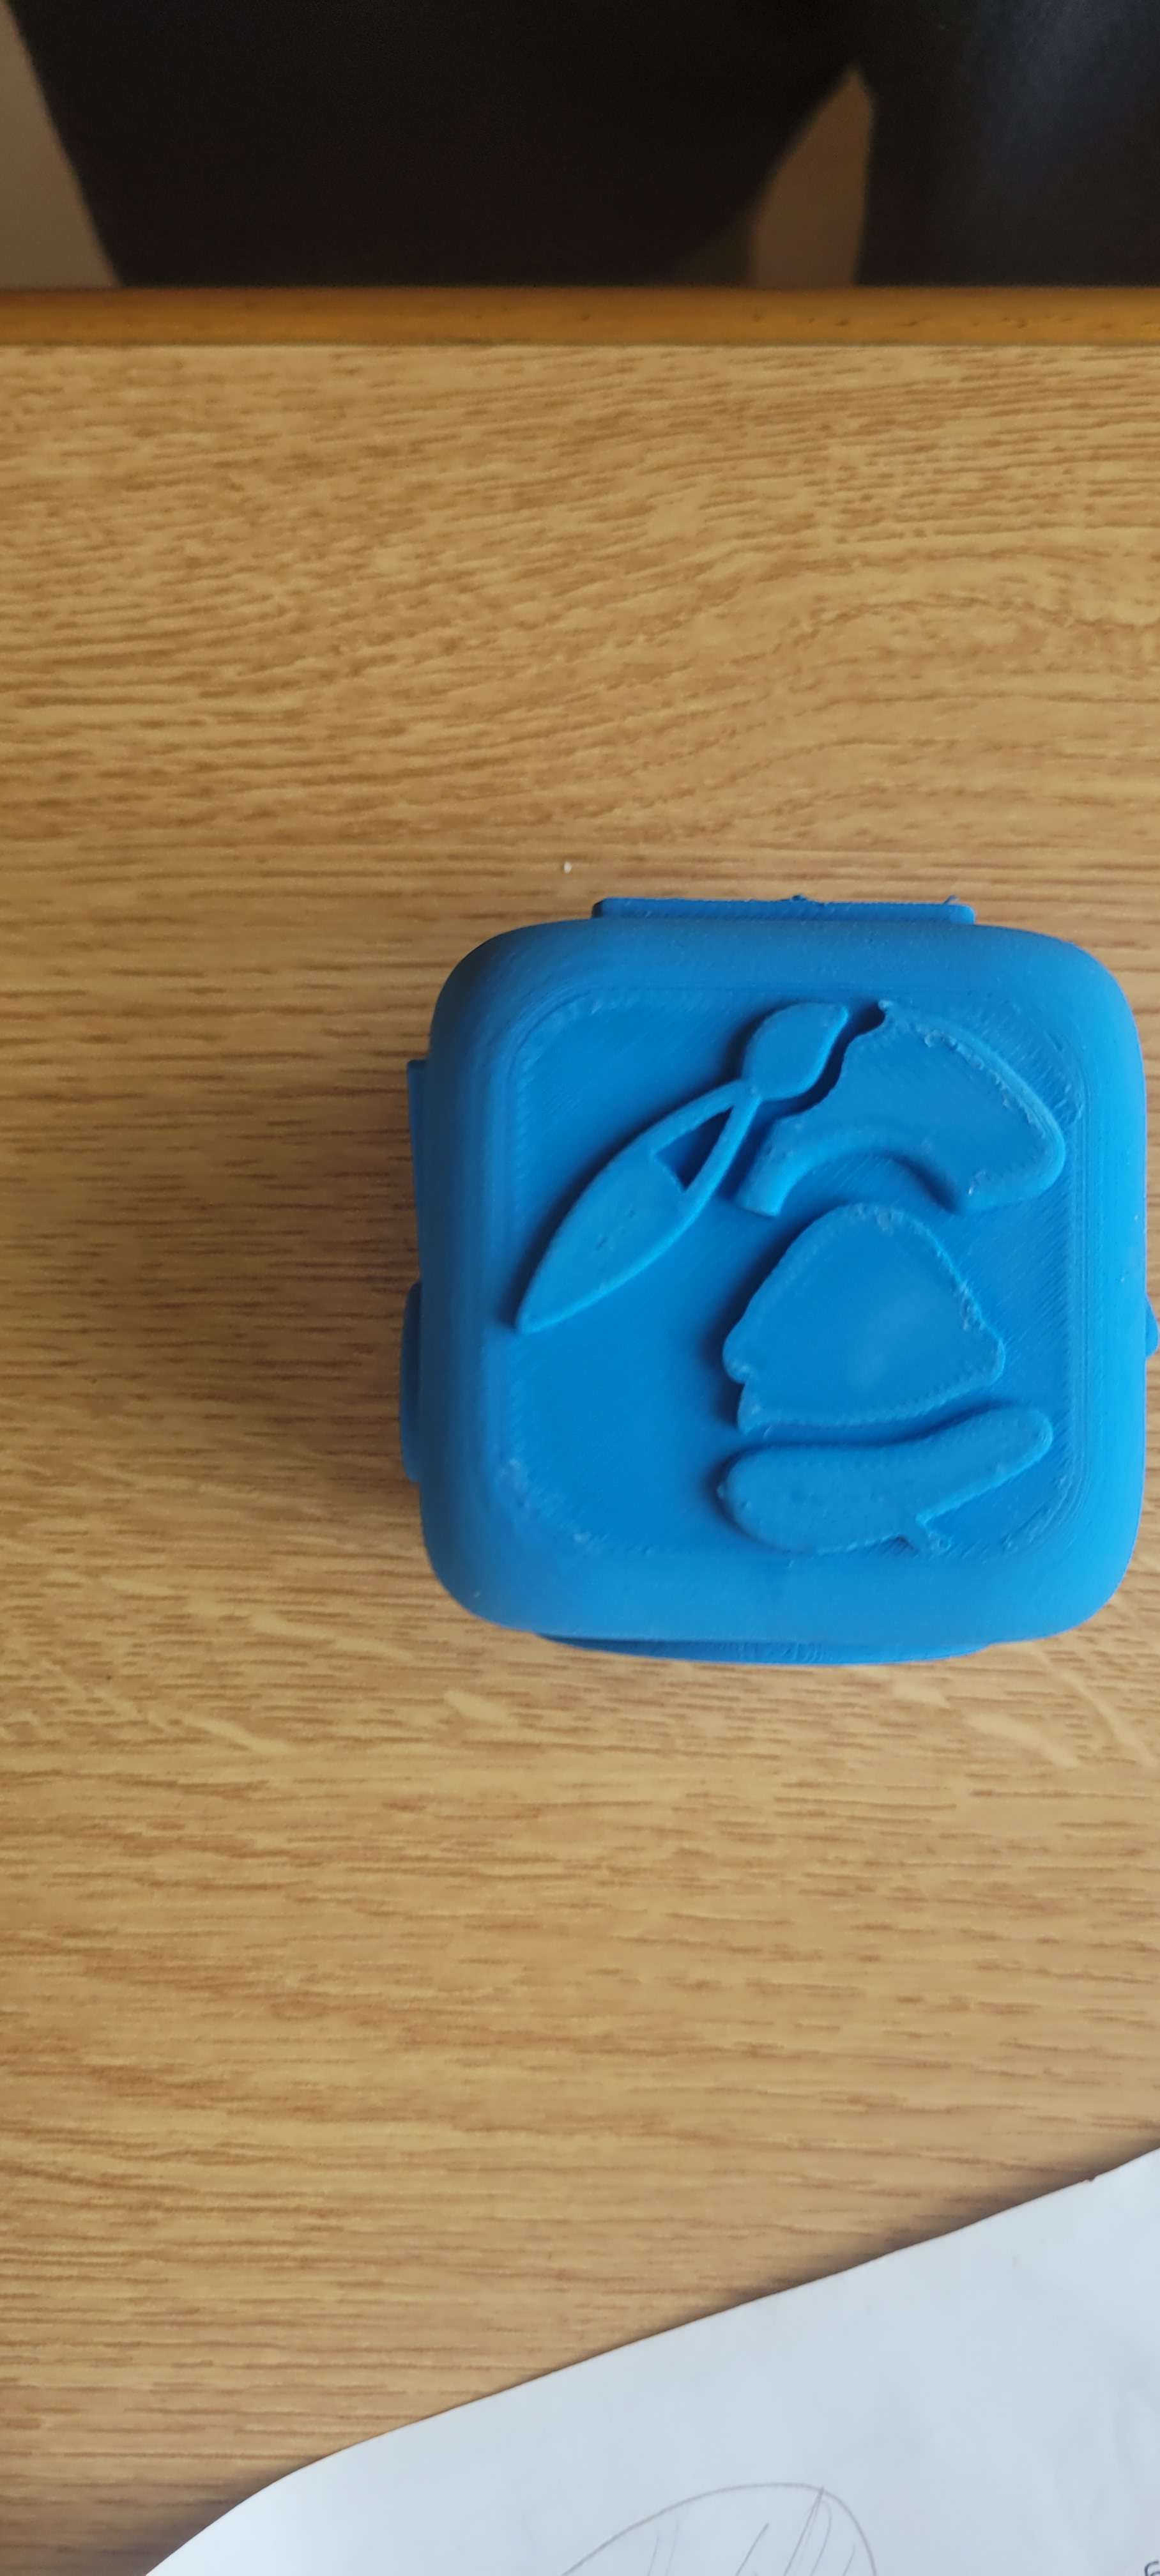Artist_Info: (427, 894, 1135, 1659)
